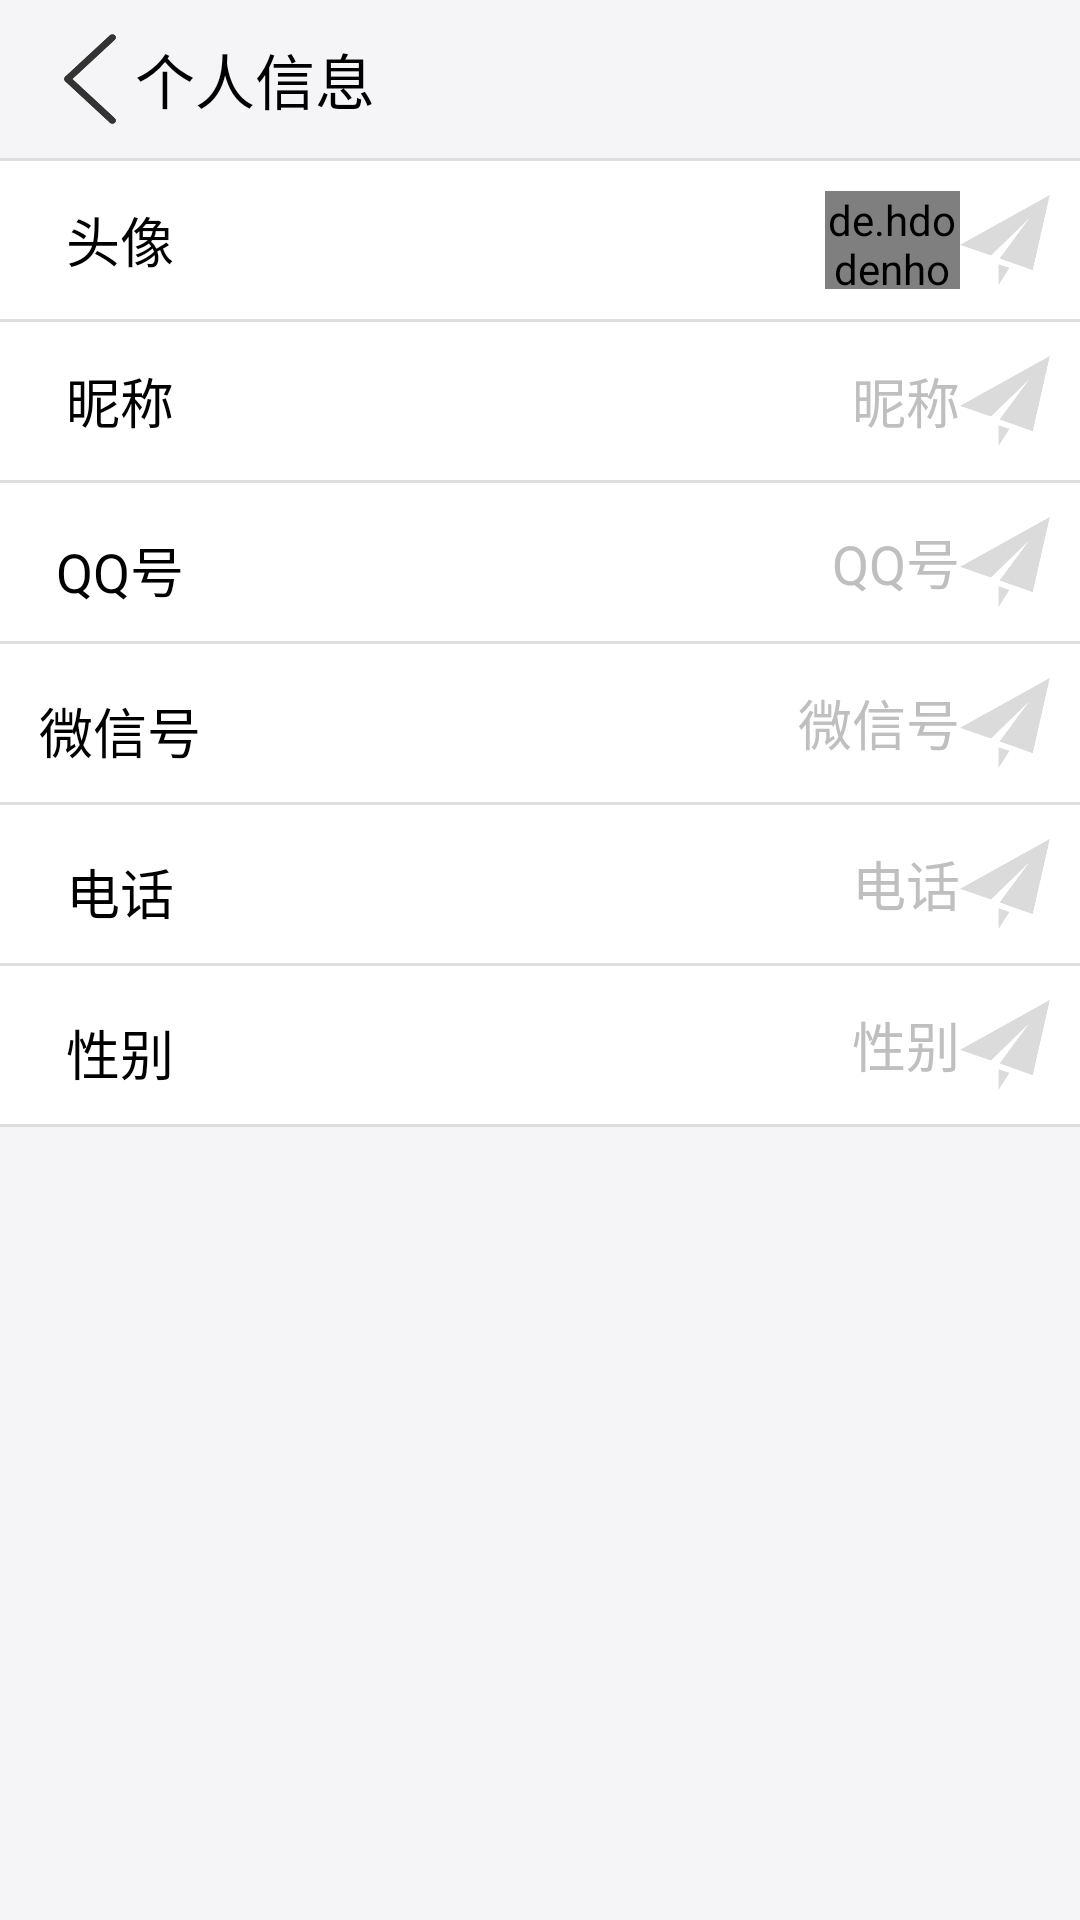

Point at icon controls on the screen. Image size 1080×1920, points as (x,y).
personal back head: (90,79)
